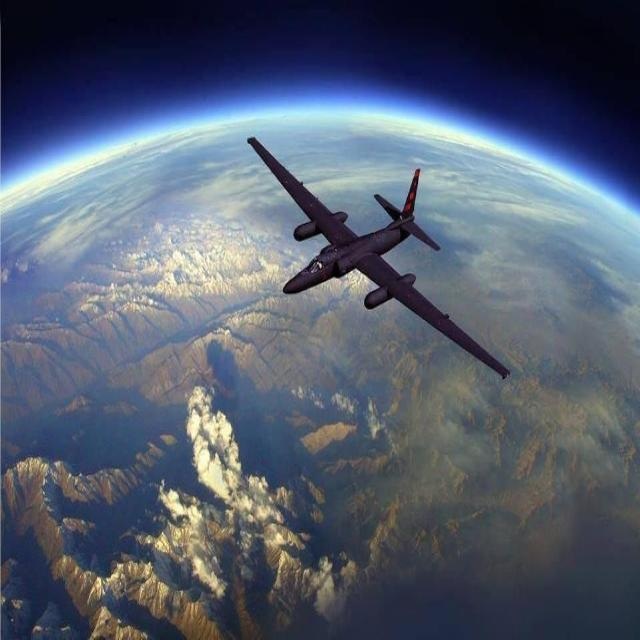MIL_Plane: (245, 135, 510, 381)
